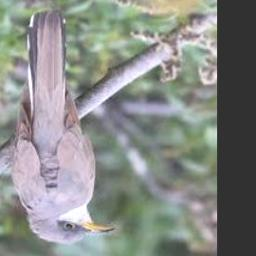Cuckoo: (10, 11, 115, 245)
